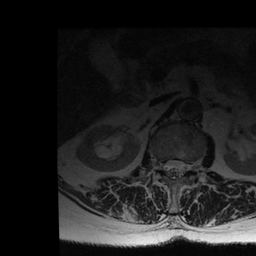CCS_normal: (171, 153, 179, 184)
LFS_normal: (187, 157, 193, 175)
LLS_normal: (179, 154, 187, 180)
RFS_normal: (157, 156, 164, 175)
RLS_normal: (164, 154, 171, 180)
